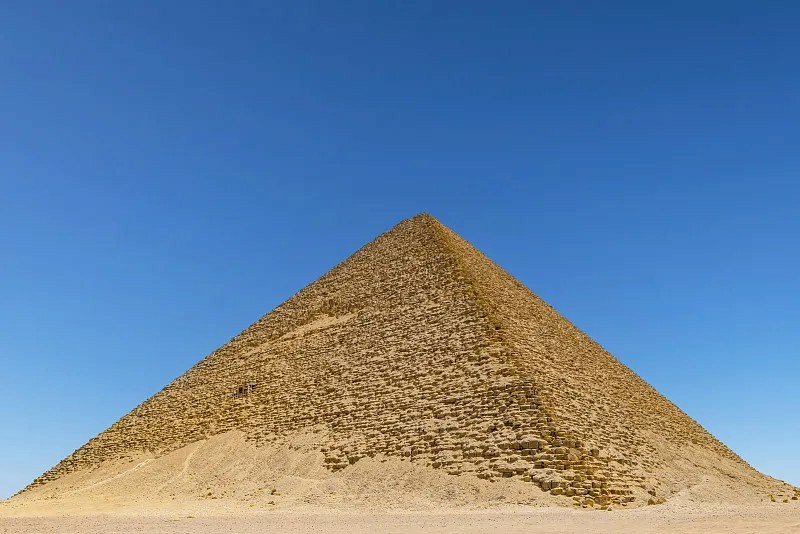Pyramid: (16, 214, 764, 507)
